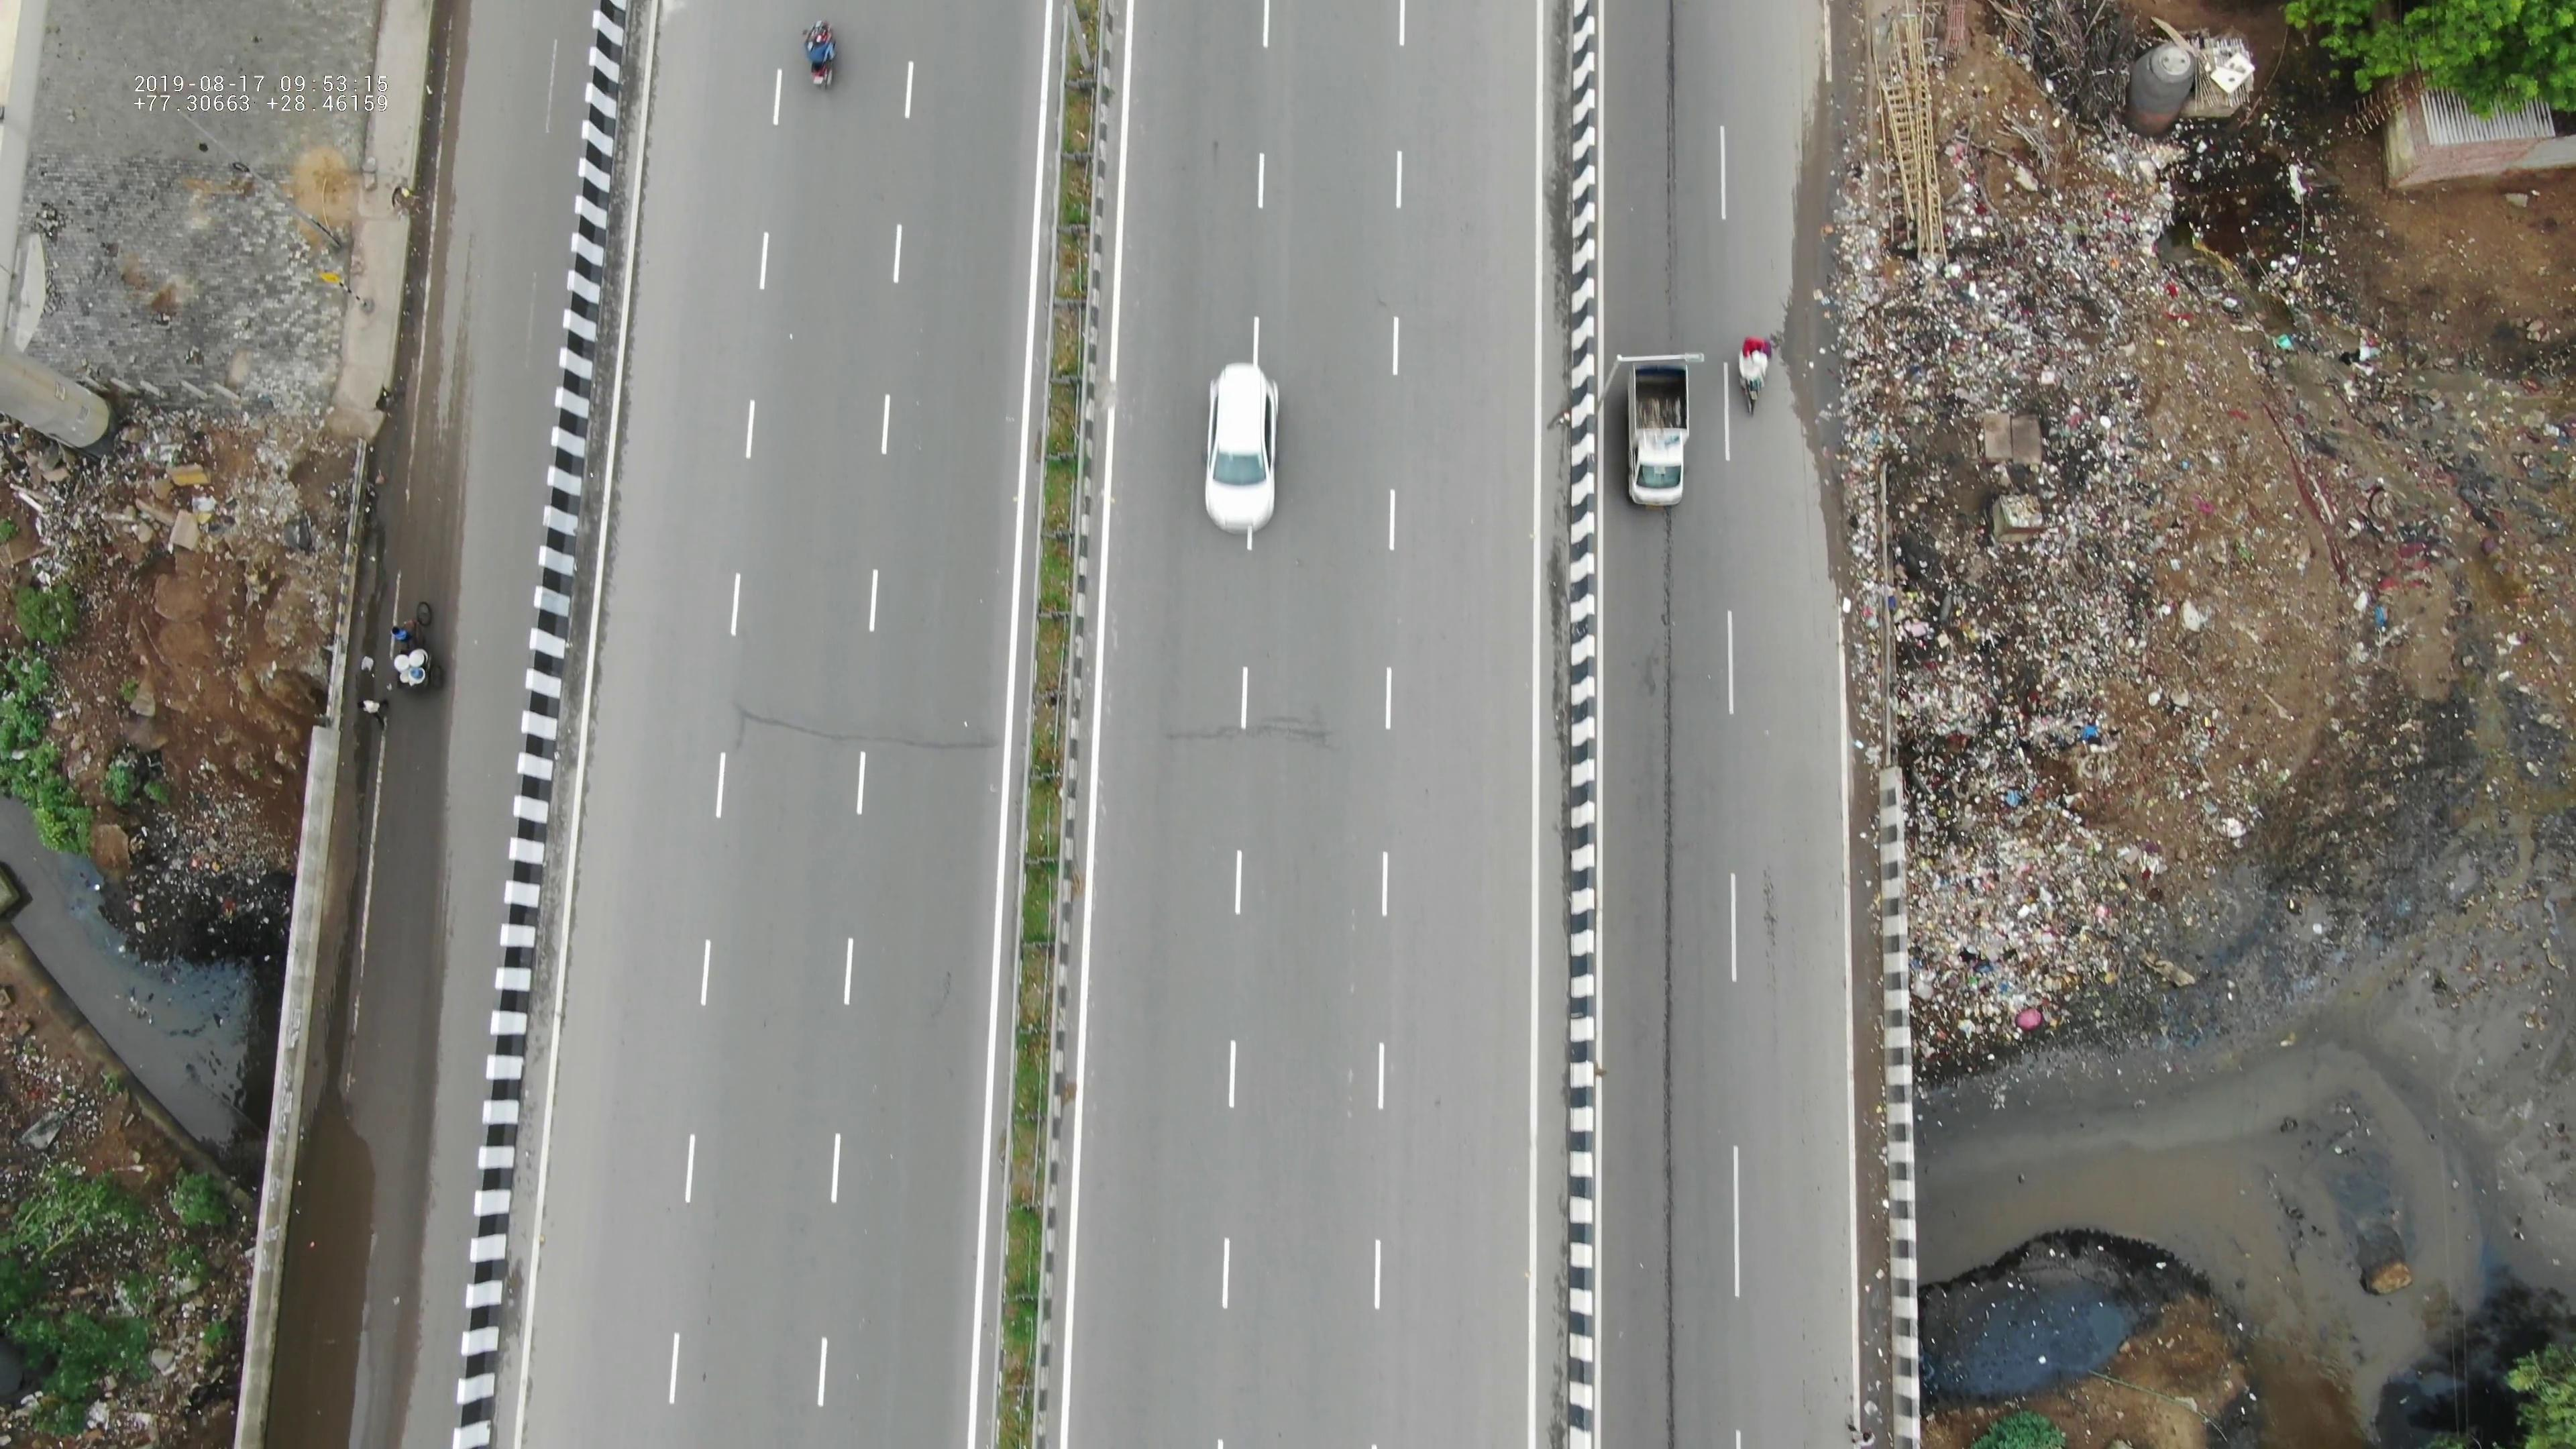Road_side_garbage: (1829, 99, 2220, 1044)
